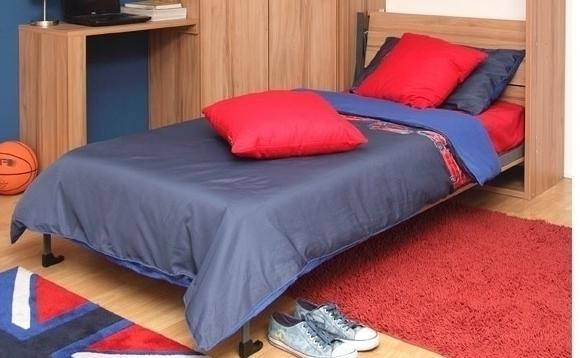bed: (31, 16, 522, 321)
table: (13, 9, 199, 179)
